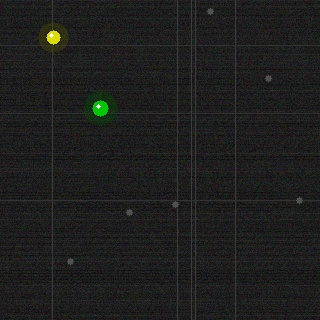green_normal: (90, 98, 110, 118)
yellow_warning: (44, 28, 62, 46)
